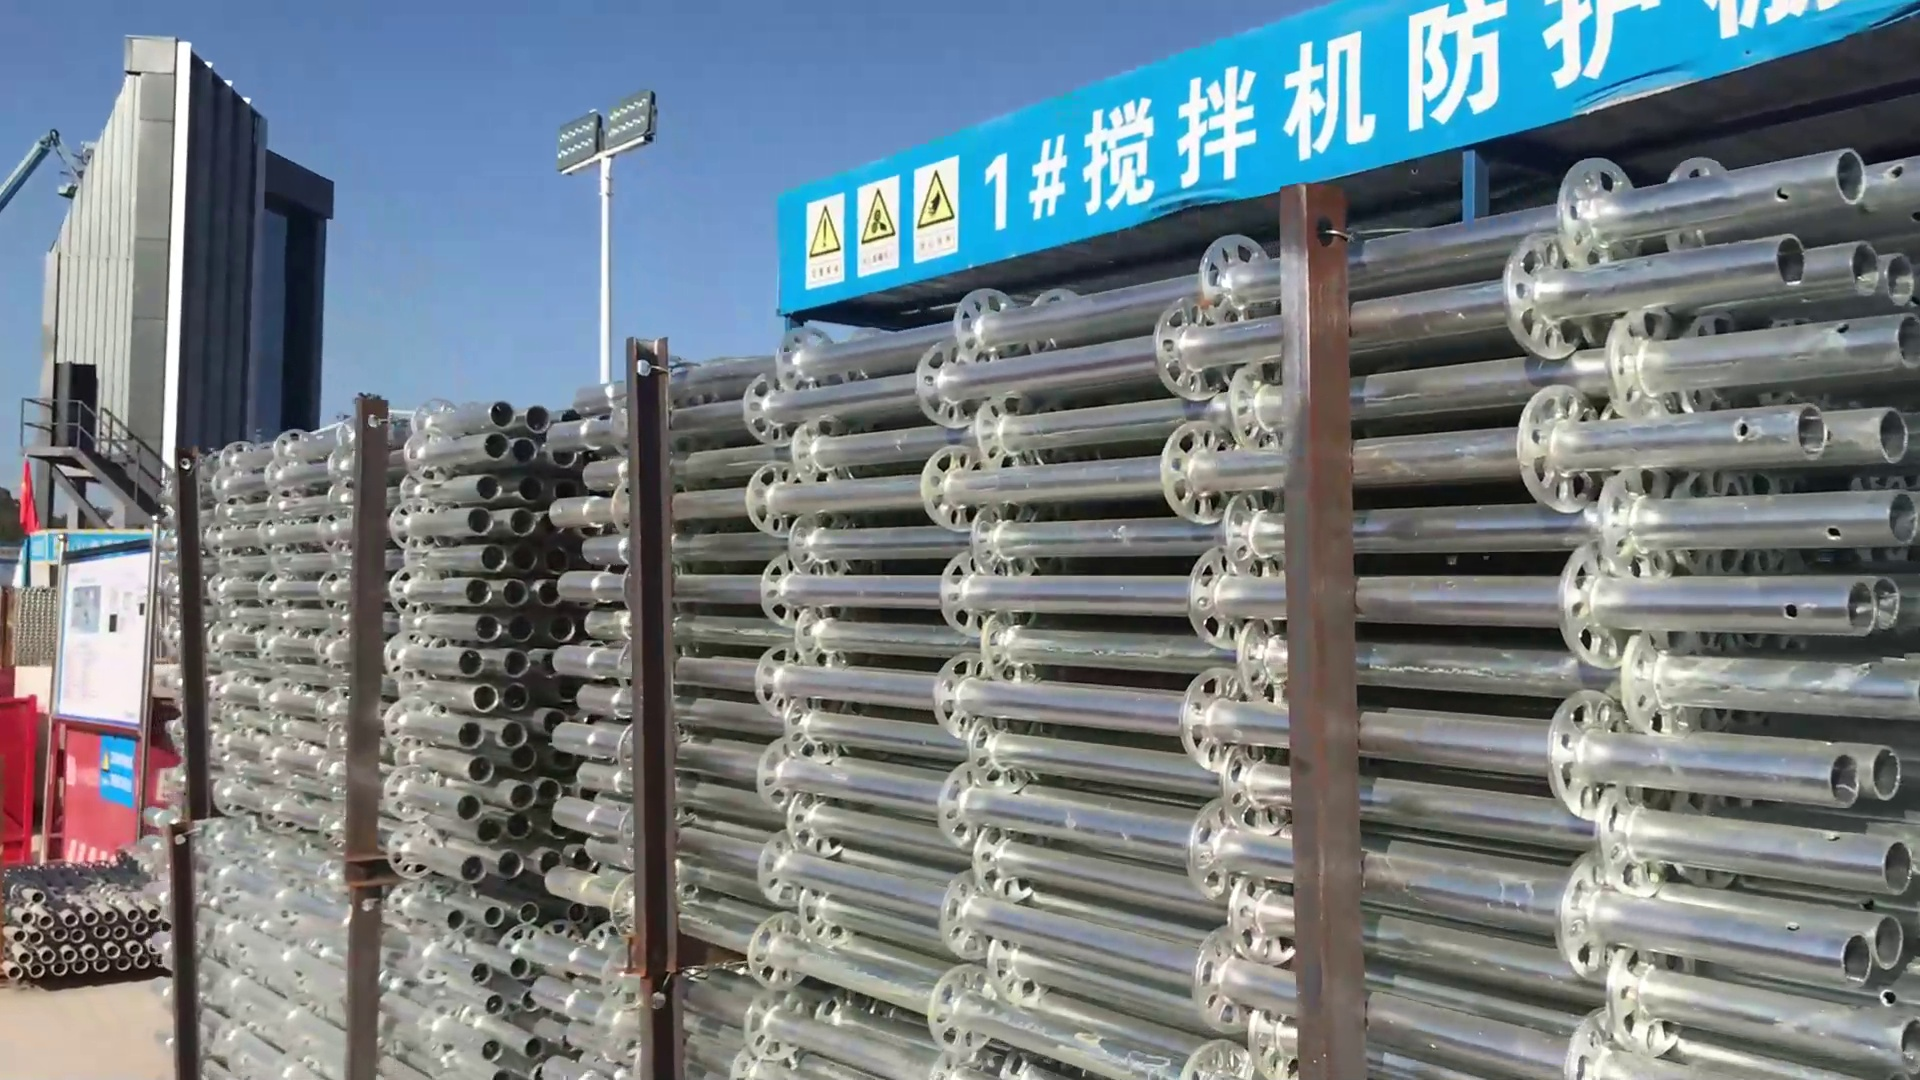fence: (46, 723, 142, 874), (1, 684, 40, 872)
scaffold: (150, 137, 1919, 1068), (7, 872, 169, 989)
slogan: (804, 154, 967, 280), (98, 735, 135, 806)
